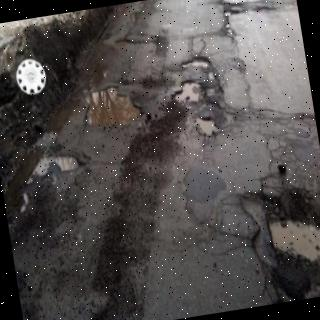pothole: (241, 188, 320, 303), (83, 86, 144, 132), (223, 3, 278, 19), (172, 80, 199, 101), (196, 115, 218, 135), (181, 58, 210, 66)
